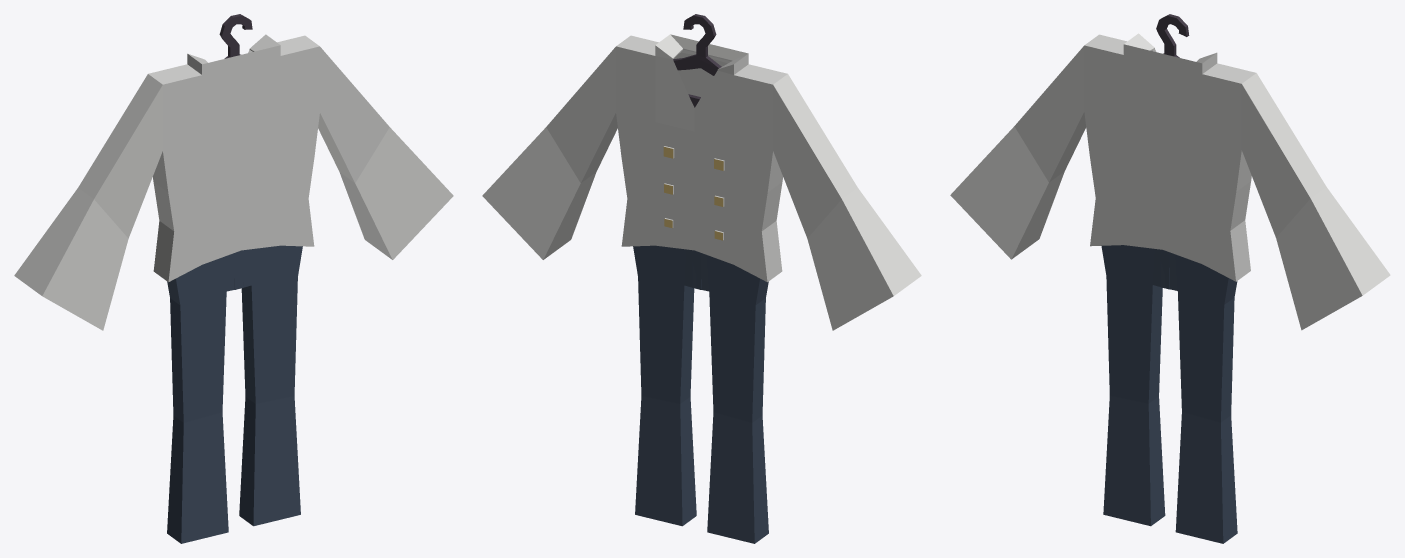
Rendered from clothes_1.fbx.
The picture shows the model from 3 angles, left to right: view 1: azimuth 30°, elevation 25°; view 2: azimuth 150°, elevation 25°; view 3: azimuth 330°, elevation 25°; orthographic projection.
Parts seen in each view (by area): view 1: shirt1, pants1, hanger1; view 2: shirt1, pants1, hanger1; view 3: shirt1, pants1, hanger1.
Boxes of the visible parts, x1,y1,x2,y2 form: shirt1: [14, 34, 453, 330]; pants1: [167, 245, 302, 543]; hanger1: [219, 14, 252, 58]; shirt1: [482, 34, 921, 330]; pants1: [633, 245, 768, 543]; hanger1: [673, 14, 721, 107]; shirt1: [950, 33, 1390, 330]; pants1: [1101, 245, 1237, 543]; hanger1: [1156, 14, 1189, 57].
Bounding box in the file's own units: 103 × 12.15 × 121.
